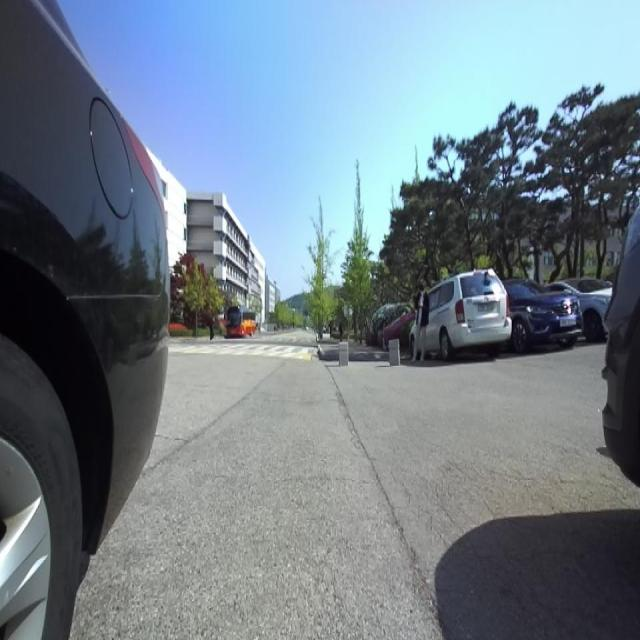sidewalk: (321, 339, 380, 354)
